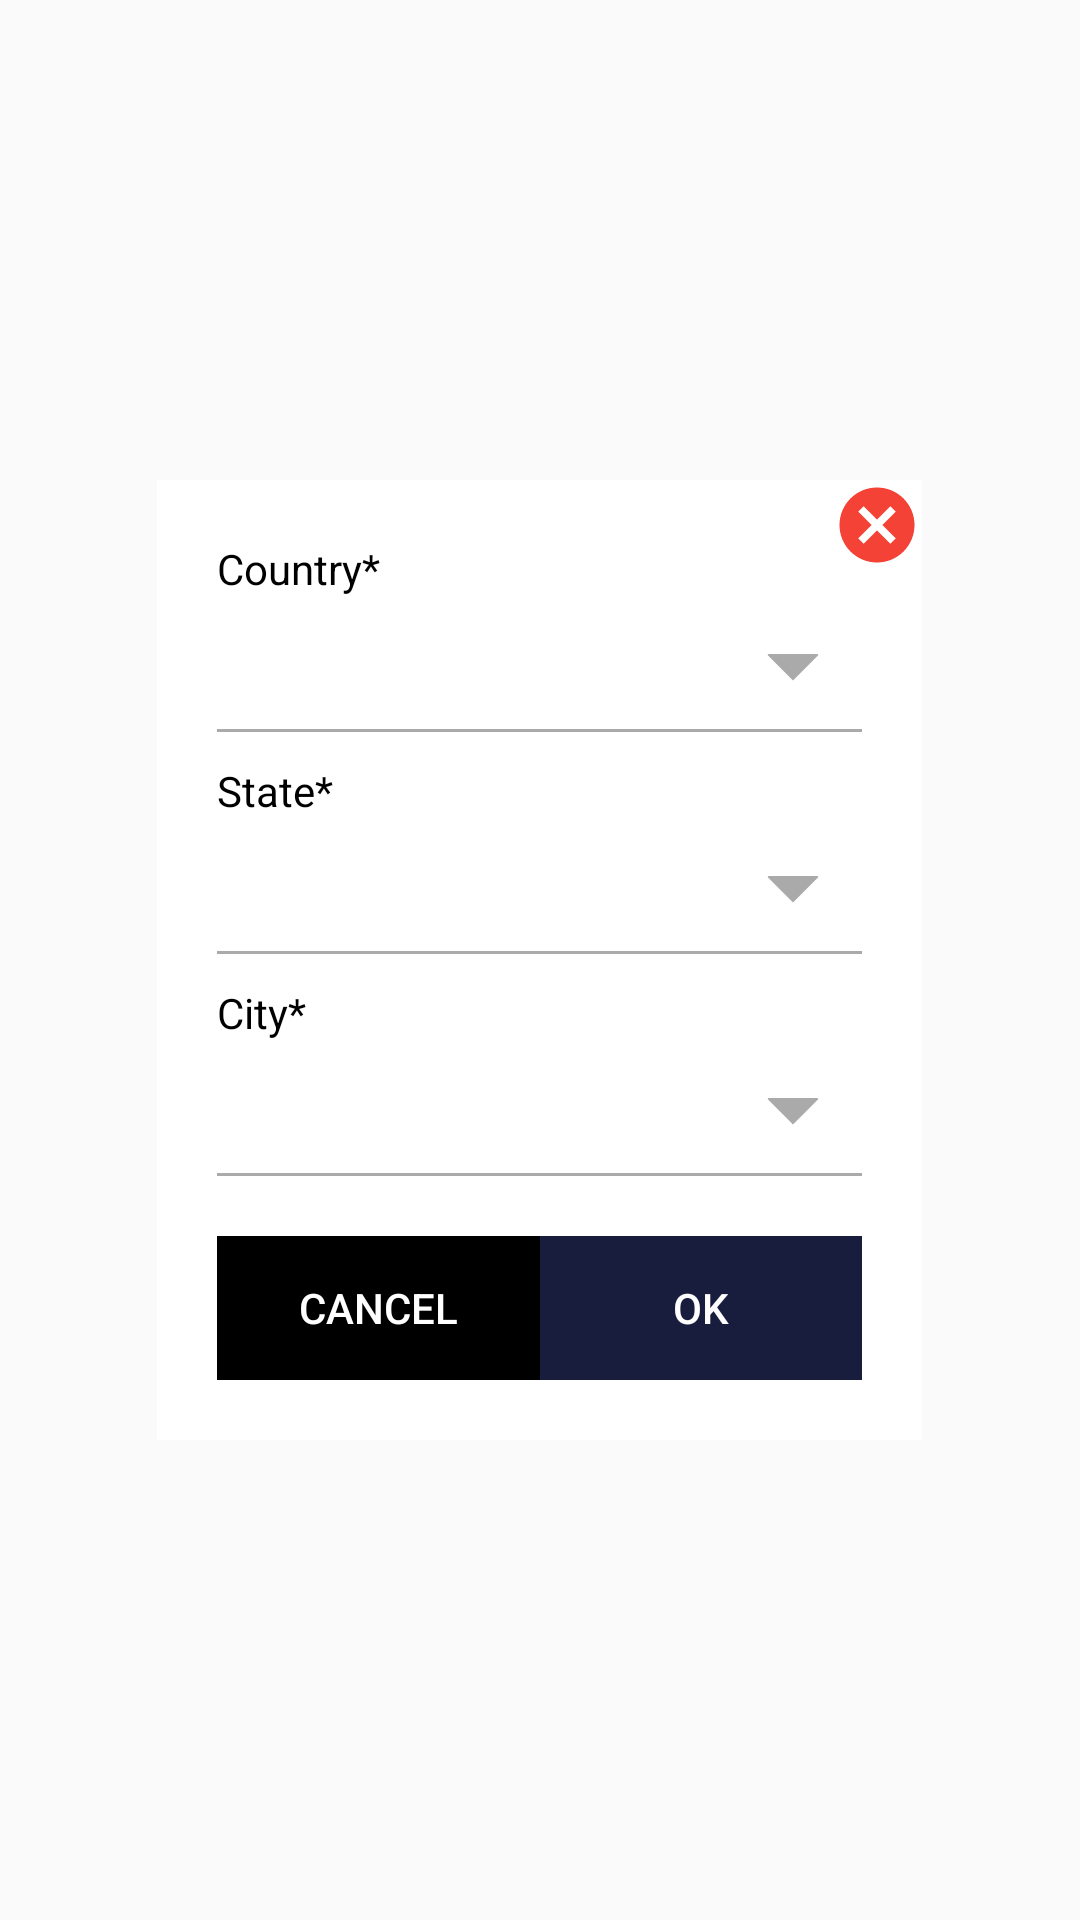

Named icons in this screenshot (1080 x 1920) and their centers, point (x, y):
cancel: point (877, 525)
